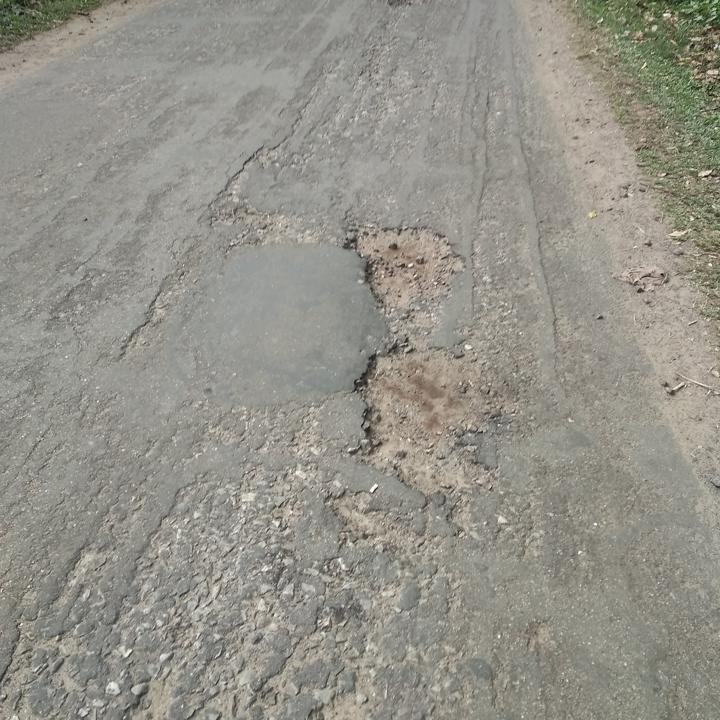pothole: (346, 340, 509, 506), (338, 215, 470, 326)
